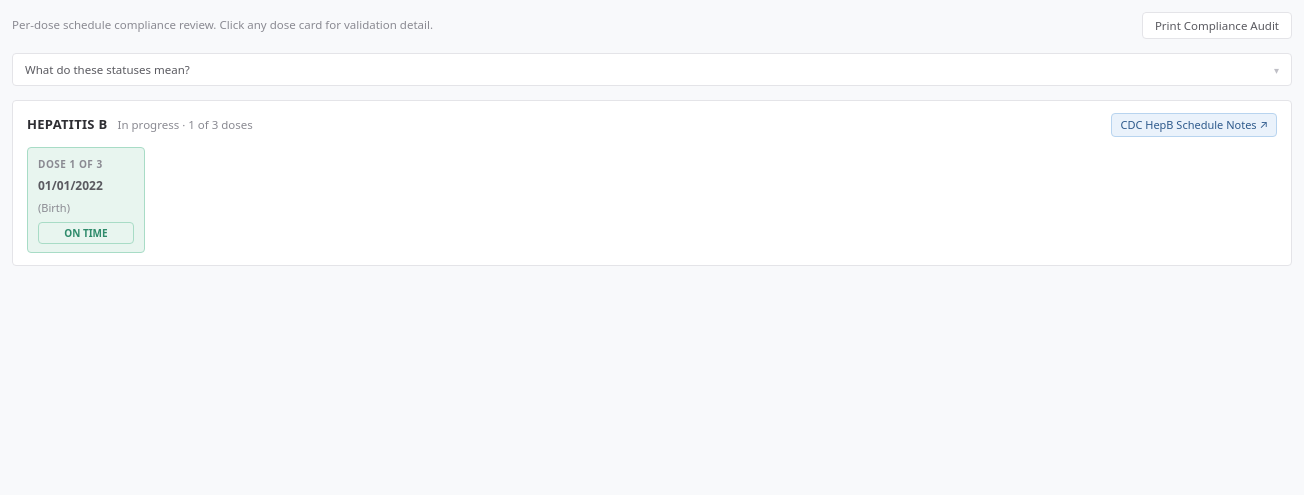
Test: dose card popover › clicking × closes the popover
The image size is (1304, 495).
Click the element with test id "dose-card-HepB-0" at (86, 200), box [27,147,145,253]
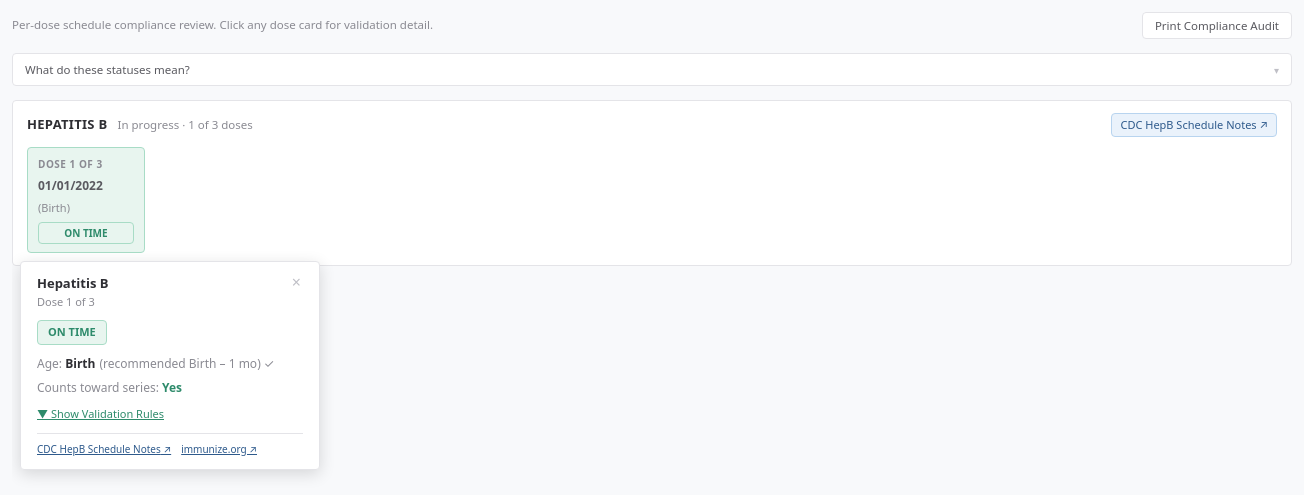
Expected: the element with test id "dose-compliance-popover" is shown, [20,261,320,470]
Click the button titled "Close" at (296, 282), box [290,274,303,290]
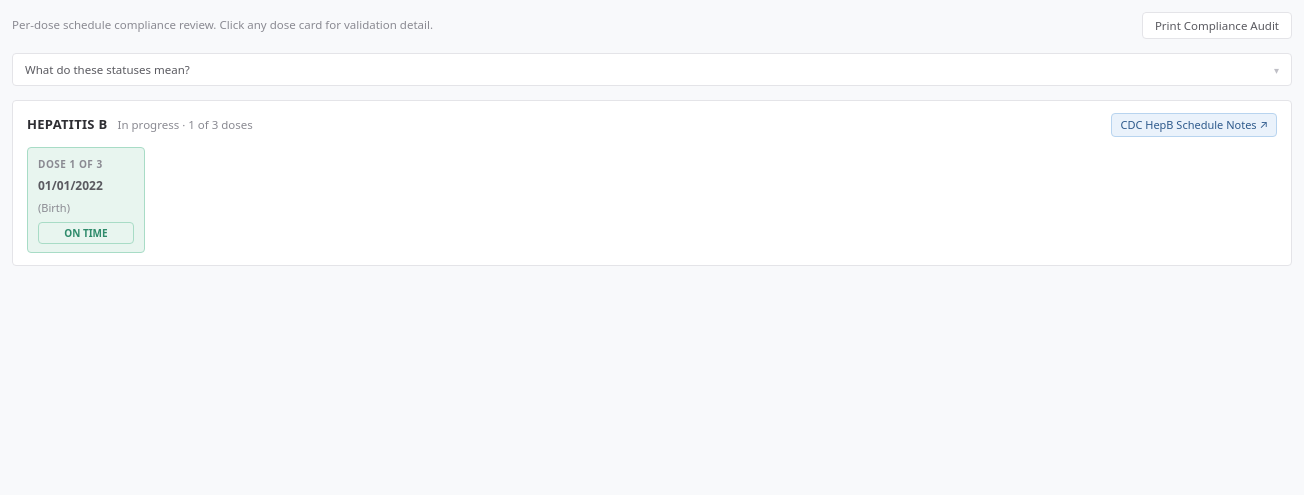
Expected: the element with test id "dose-compliance-popover" is gone
